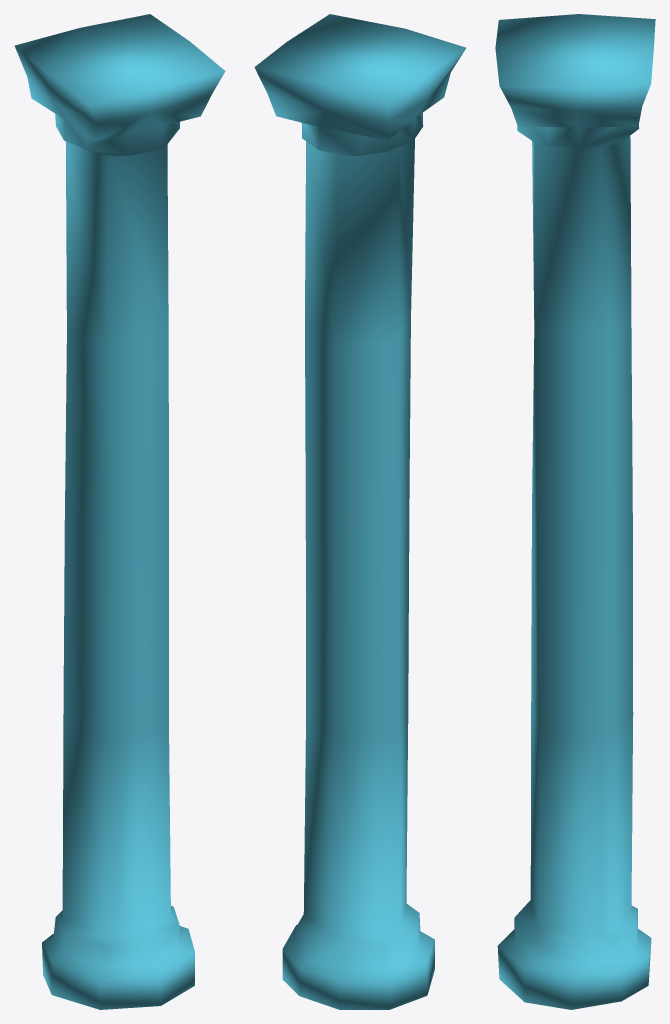
Rendered from column_01.FBX.
3 views of the same model, side by side, from view 1: azimuth 30°, elevation 25°; view 2: azimuth 150°, elevation 25°; view 3: azimuth 270°, elevation 25° (orthographic).
Parts seen in each view (by area): view 1: column_01; view 2: column_01; view 3: column_01.
Boxes of the visible parts, x1,y1,x2,y2 form: column_01: [14, 14, 225, 1009]; column_01: [254, 14, 466, 1009]; column_01: [495, 14, 655, 1009].
Size of the model in its own units: 35.5 by 220 by 34.24.
